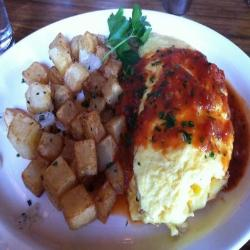omelette: (119, 44, 236, 228)
